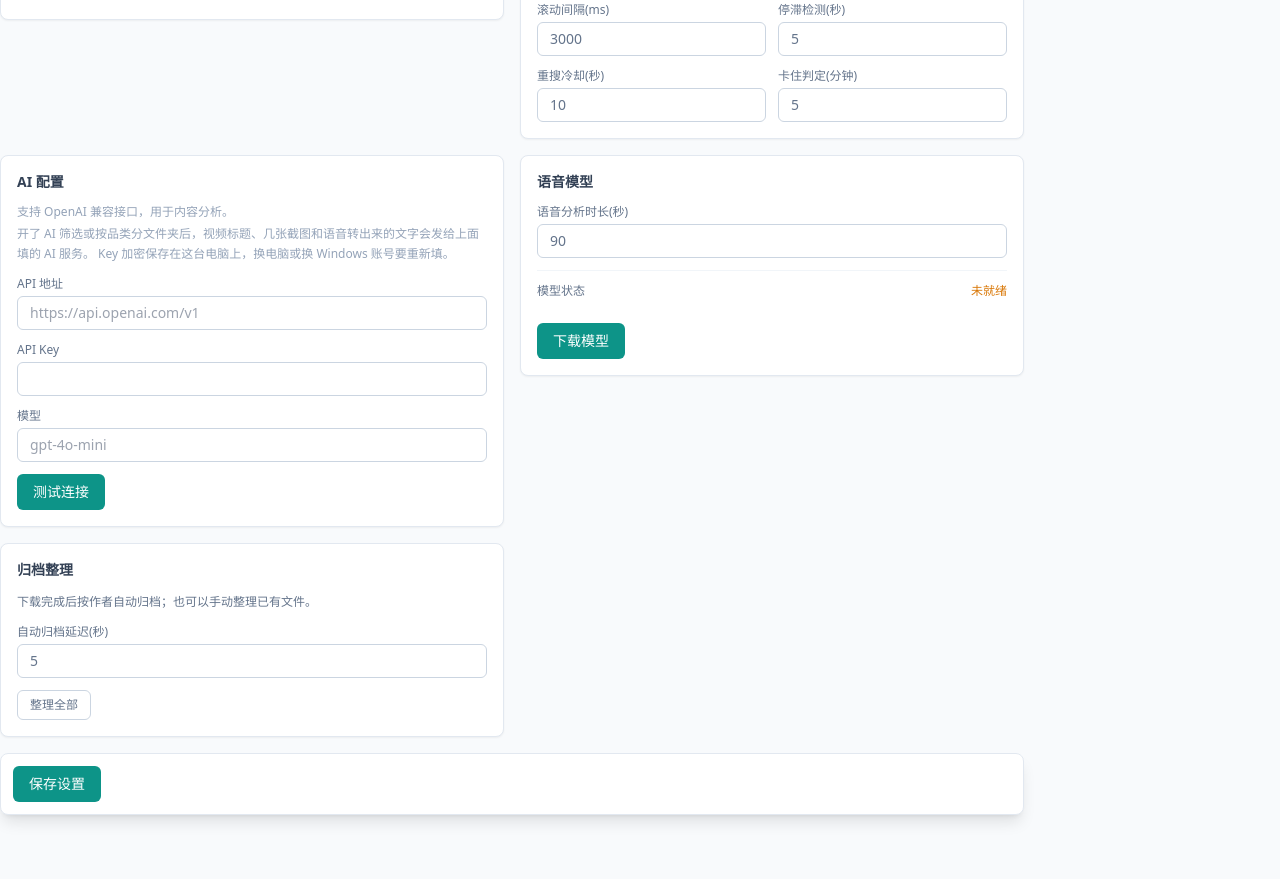
Test: SettingsPanel 消息的成功/失败配色 › AI 连接失败 → 用危险色，不能是成功色
(page scrolled)
Click the button "测试连接": {"x": 61, "y": 492} [17,474,105,510]
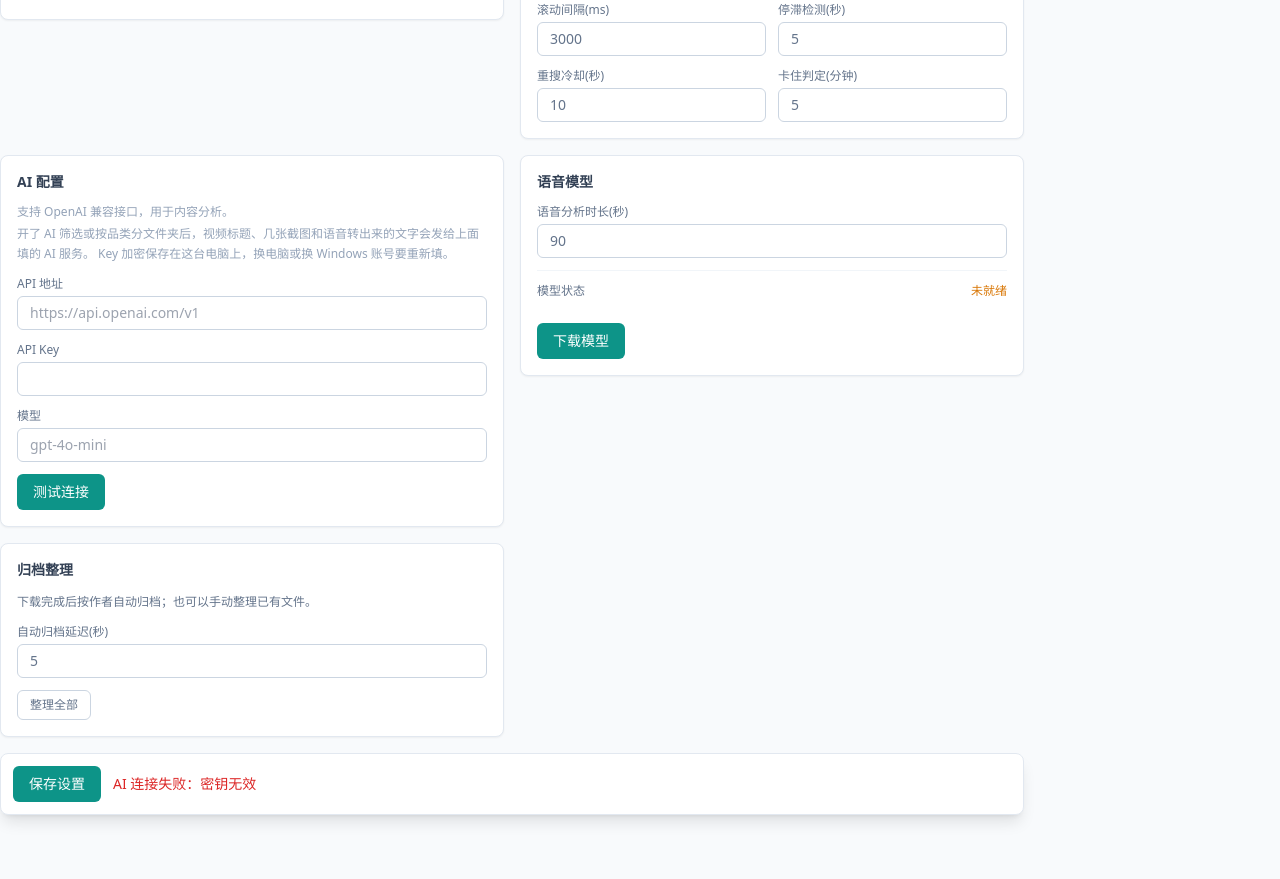
Now the text "AI 连接失败：密钥无效" is shown, box [113,774,256,794]
